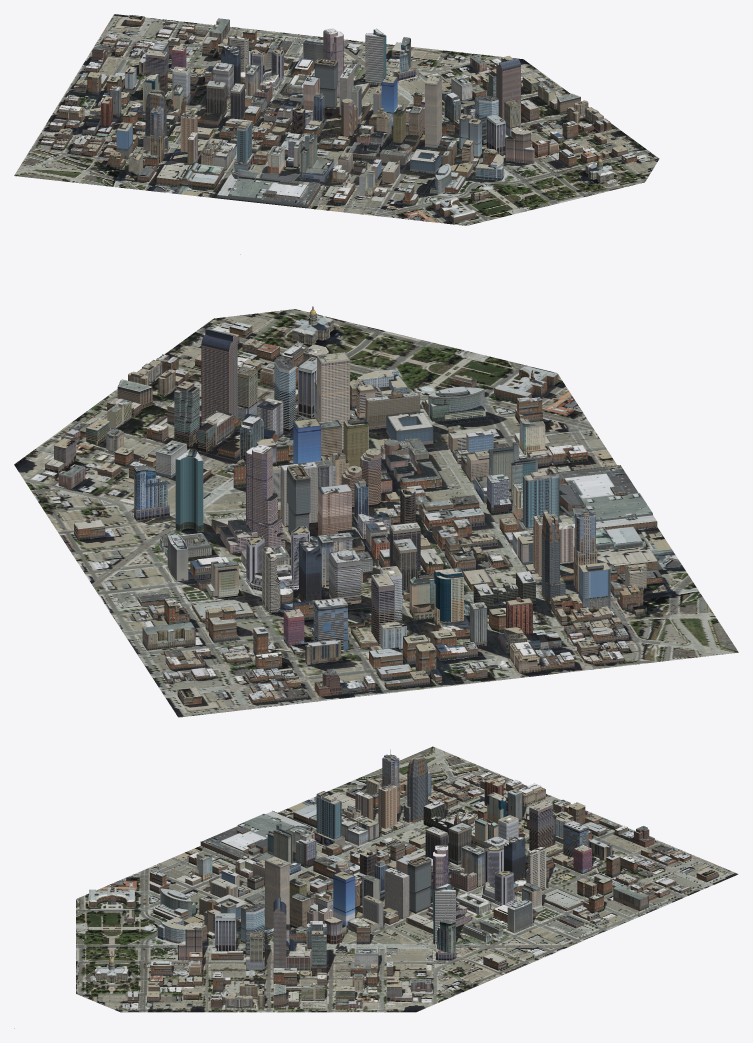
Rendered from city_pack_8.glb.
3 views of the same model, one above another, from view 1: azimuth 30°, elevation 25°; view 2: azimuth 150°, elevation 25°; view 3: azimuth 270°, elevation 25° (orthographic). The views are drawn at different scales.
Parts seen in each view (by area): view 1: Material3 (×37), Material2 (×6); view 2: Material3 (×41), Material2 (×9); view 3: Material3 (×37), Material2 (×5).
Boxes of the visible parts, box(x1,y1,x2,y2) form: Material3 (×37): box(40, 14, 659, 225); Material2 (×6): box(14, 18, 593, 219); Material3 (×41): box(14, 309, 662, 717); Material2 (×9): box(142, 352, 738, 683); Material3 (×37): box(76, 750, 738, 1012); Material2 (×5): box(120, 746, 648, 942).
Bounding box in the file's own units: 75038 × 8614 × 81491.
Materials: 100 (100 with a texture image).
